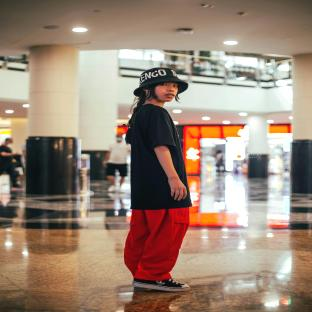Human: (124, 68, 192, 292)
